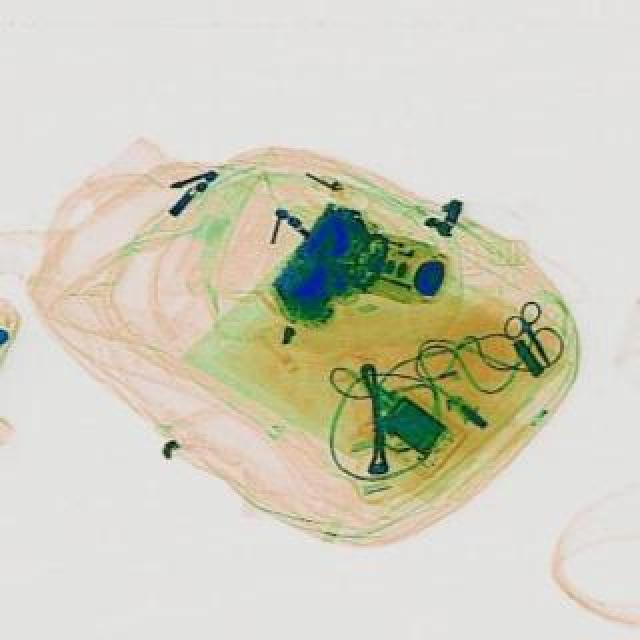pliers: (492, 296, 568, 376)
